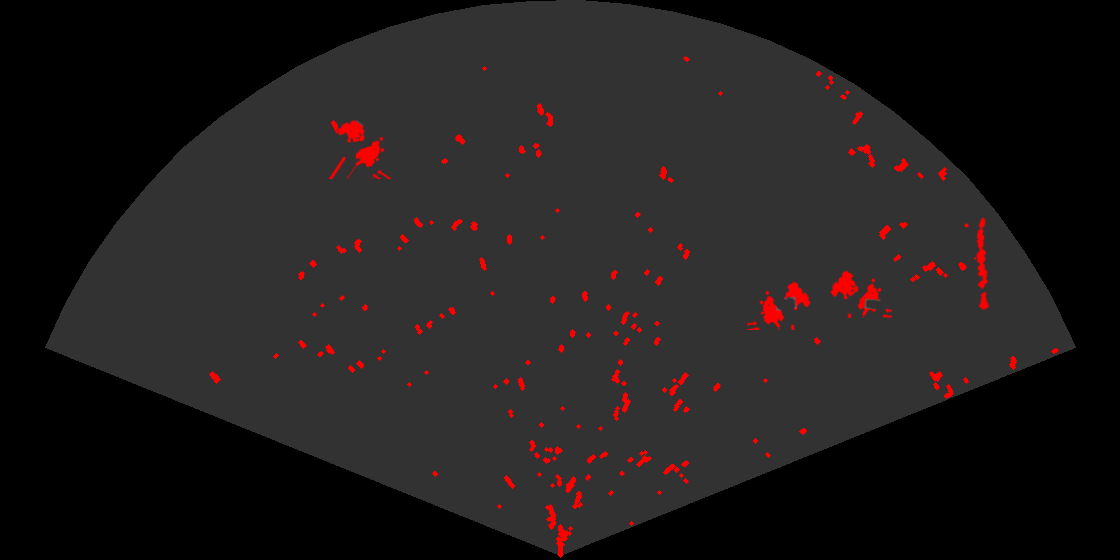cage: (327, 118, 393, 179), (747, 280, 813, 330), (828, 269, 892, 318)
chain: (975, 216, 990, 311)
